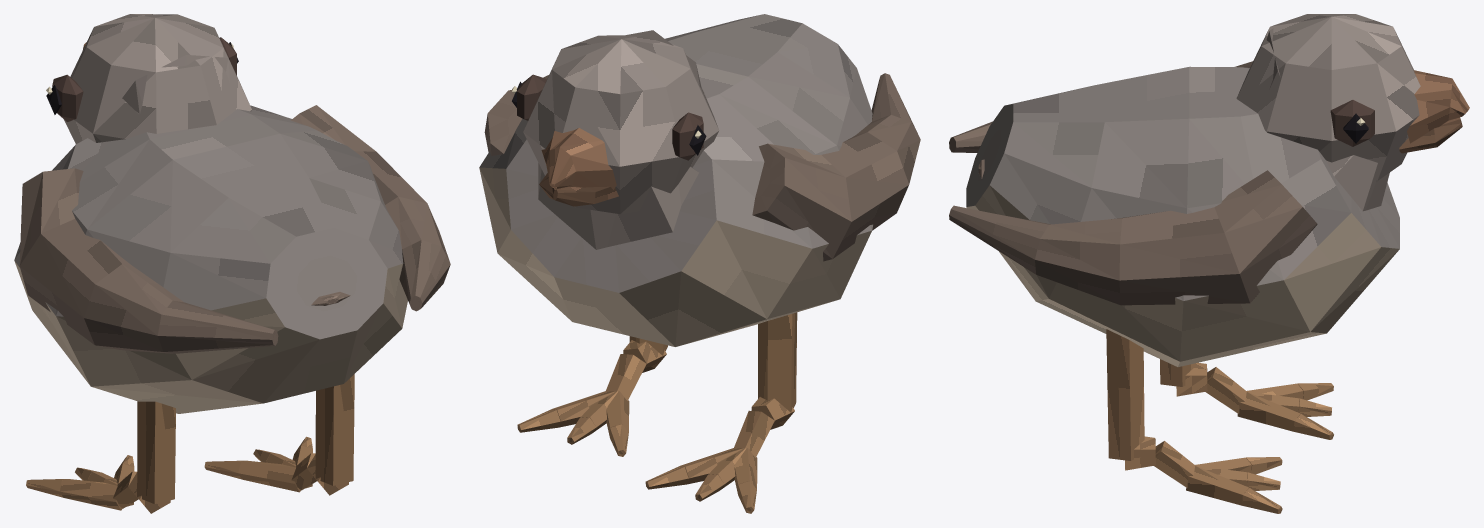
File: mon_chickadee_chick.glb
3 views of the same model, side by side, from view 1: azimuth 30°, elevation 25°; view 2: azimuth 150°, elevation 25°; view 3: azimuth 270°, elevation 25° (orthographic).
Visible parts, largest first — view 1: closed_body; view 2: closed_body; view 3: closed_body.
Boxes of the visible parts, left/top/right/bottom form: closed_body: left=14, top=14, right=450, bottom=513; closed_body: left=479, top=14, right=920, bottom=513; closed_body: left=949, top=14, right=1469, bottom=513.
Size of the model in its own units: 0.0347 by 0.0402 by 0.0434.
1 material, 1 textured.
